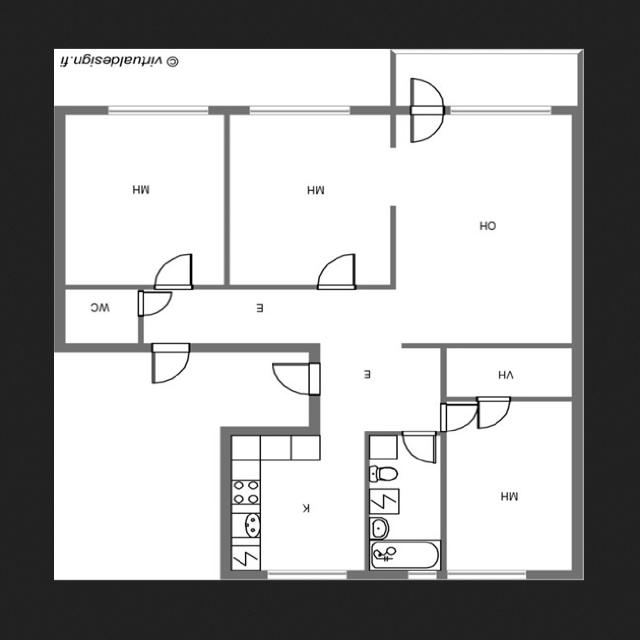door: (401, 76, 447, 146), (309, 248, 363, 294), (451, 396, 514, 432), (148, 248, 198, 293), (266, 359, 319, 398), (148, 342, 192, 387), (401, 429, 438, 464), (133, 290, 173, 318)
window: (242, 98, 356, 121), (99, 98, 215, 120), (443, 99, 559, 120)
zone: (391, 105, 575, 349), (220, 110, 394, 290), (60, 110, 228, 289), (442, 399, 574, 575), (228, 433, 366, 574), (367, 432, 441, 543), (441, 348, 575, 398), (60, 287, 140, 347), (366, 538, 444, 572)
